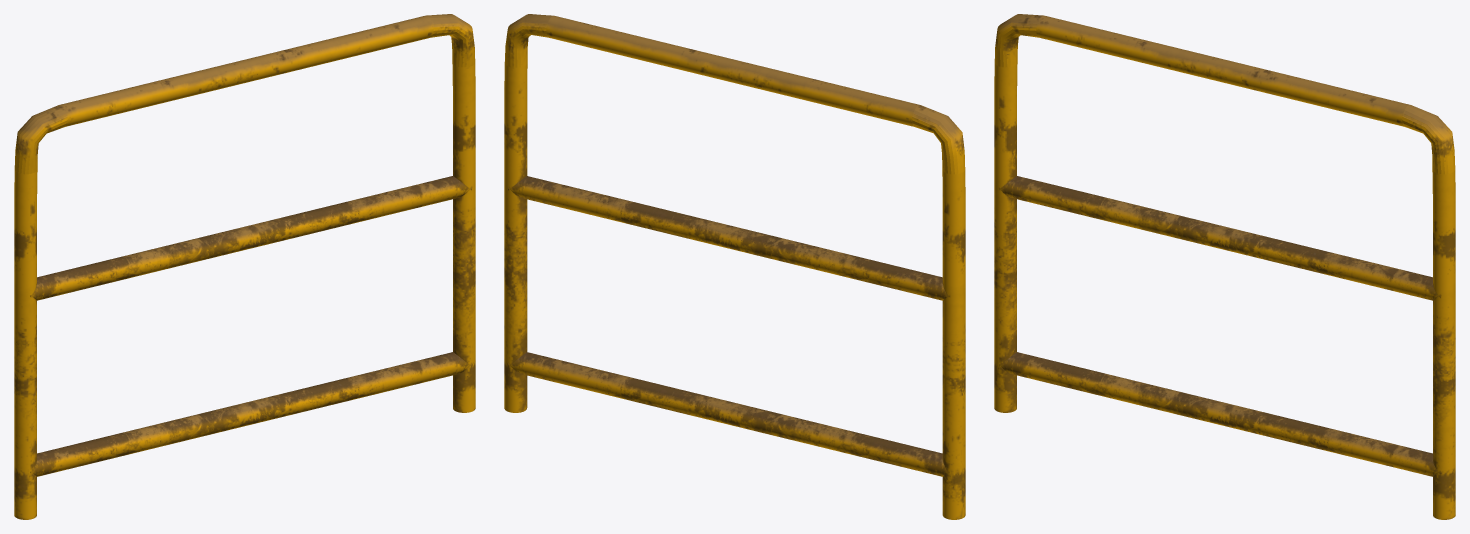
Rendered from railing_2.fbx.
3 renders of one model, left to right at view 1: azimuth 30°, elevation 25°; view 2: azimuth 150°, elevation 25°; view 3: azimuth 330°, elevation 25°, orthographic.
Visible parts, largest first — view 1: group4_pCylinder2; view 2: group4_pCylinder2; view 3: group4_pCylinder2.
Part boxes in pixels (left/top/right/bottom): group4_pCylinder2: left=14, top=14, right=475, bottom=519; group4_pCylinder2: left=504, top=14, right=965, bottom=519; group4_pCylinder2: left=994, top=14, right=1455, bottom=519.
Bounding box in the file's own units: 126 × 106 × 6.61.
